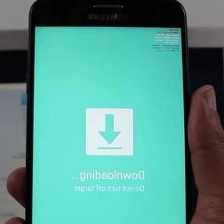phone: (20, 0, 194, 224)
